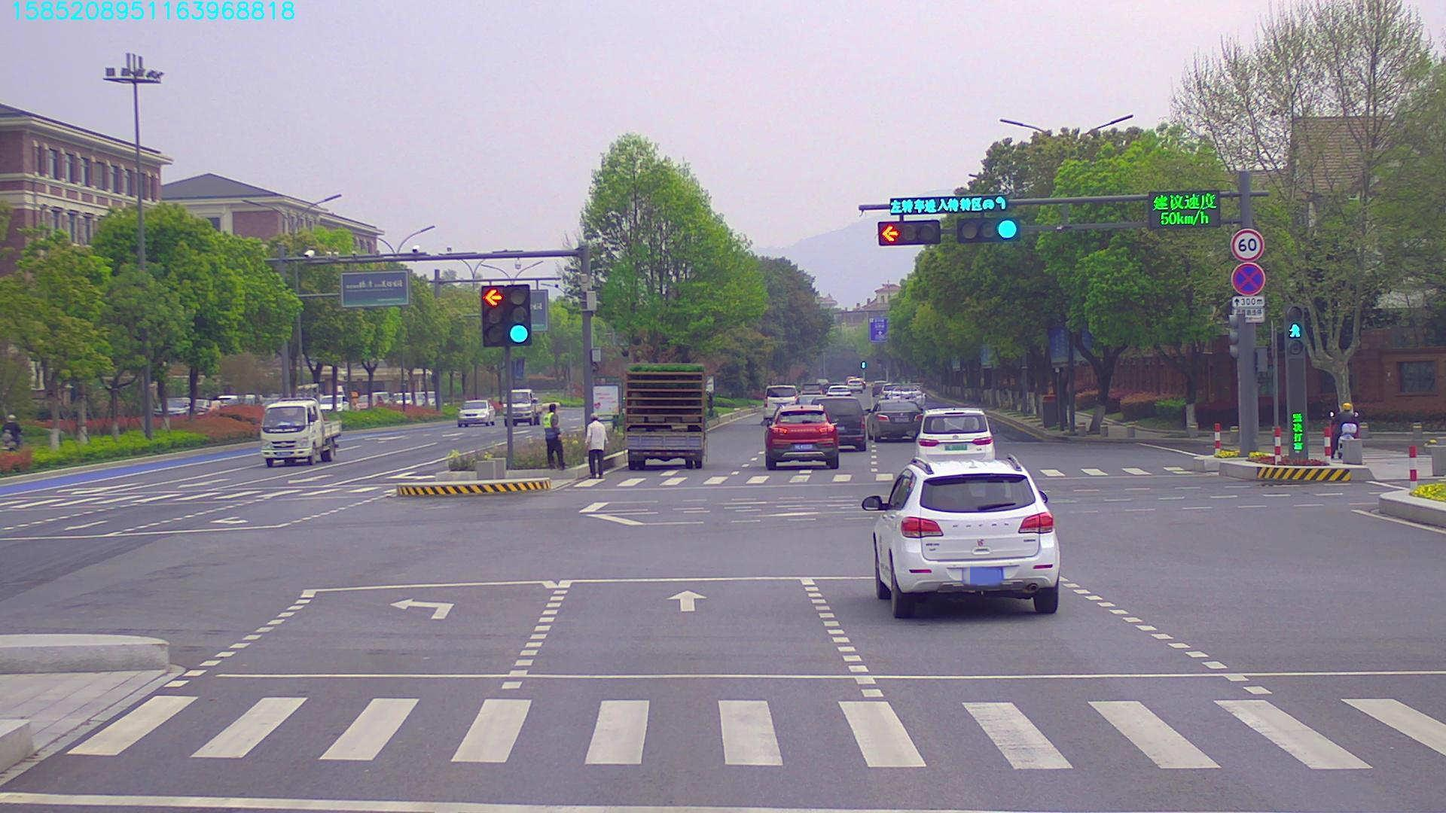green: (959, 215, 1017, 238)
red: (877, 219, 945, 245)
wait_on: (889, 197, 1013, 213)
